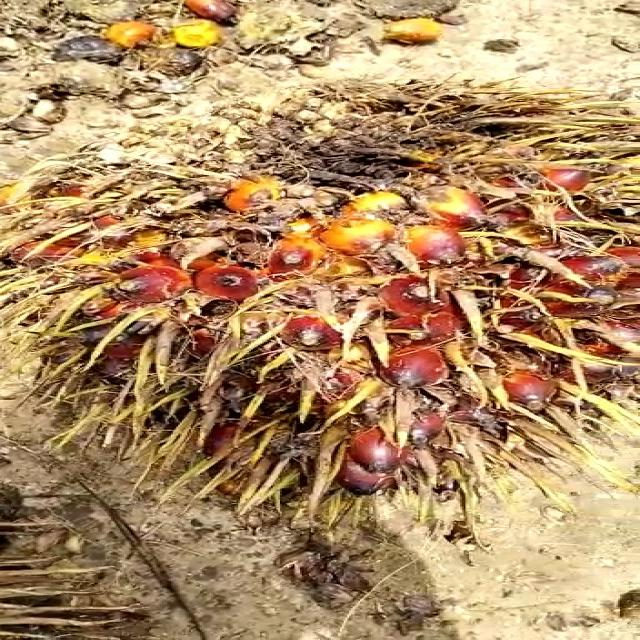palm oil: (0, 83, 640, 531)
